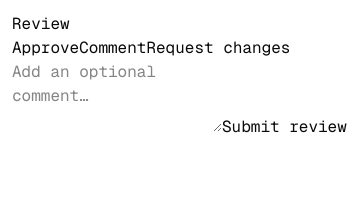
PrReviewActions › surfaces a non-identity error inline when the gate declines it
Click the button "Submit review": {"x": 284, "y": 127} [222,115,347,139]
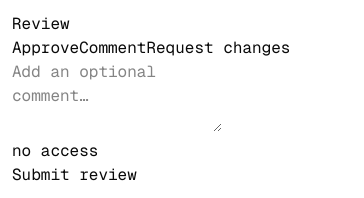
expect the text "no access" is shown: met, box [12,140,98,161]
